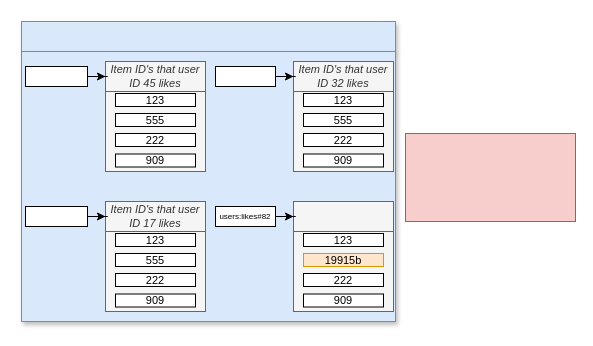
This 593x346 diagram has some shape labels left out. Here are the shapes that lost their labels. From the top down, the centre of each, then its label:
At point 209,37: "Redis".
At point 56,76: "users:likes#45".
At point 245,76: "users:likes#32".
At point 490,177: "We don't have a good way to query all sets at the same time!".
At point 56,216: "users:likes#17".
At point 343,216: "Item ID's that user ID 82 likes".
